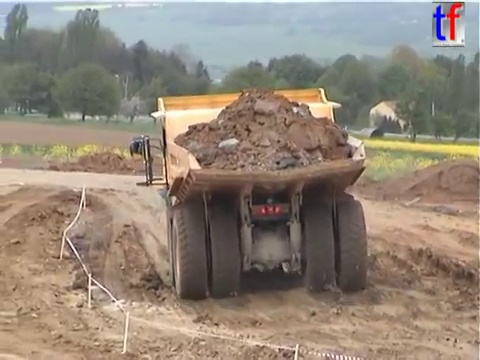truck: (126, 85, 370, 301)
